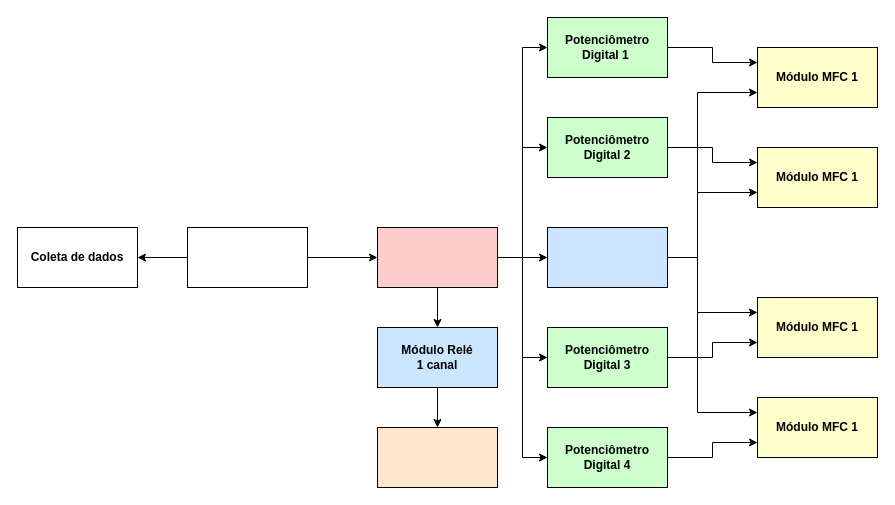
Some shapes in this 895 by 505 pixel diagram are drawn without their labels. Each missing label, with the centre of its shape:
Arduino Mega: the point at 247,257
Módulo Pirani: the point at 437,457
Módulo Relé 4 canais: the point at 607,257
Tela LCD Touch: the point at 437,257
